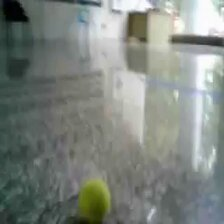tennis: (77, 177, 110, 223)
